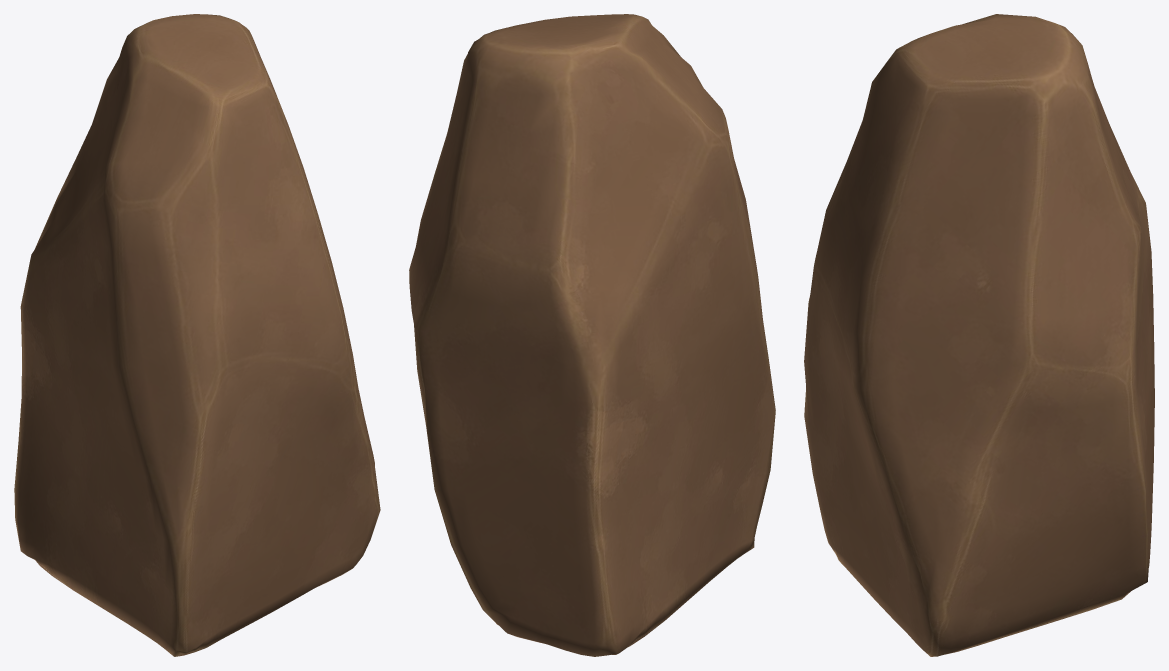
Rendered from metin_model.glb.
3 views of the same model, side by side, from view 1: azimuth 30°, elevation 25°; view 2: azimuth 150°, elevation 25°; view 3: azimuth 270°, elevation 25° (orthographic). The views are drawn at different scales.
Parts seen in each view (by area): view 1: Rock_lod0; view 2: Rock_lod0; view 3: Rock_lod0.
Part boxes in pixels (bbox=[...]): Rock_lod0: bbox=[14, 14, 380, 656]; Rock_lod0: bbox=[409, 14, 775, 656]; Rock_lod0: bbox=[804, 14, 1154, 656].
Size of the model in its own units: 1.42 by 2.58 by 1.47.
1 material, 1 textured.
